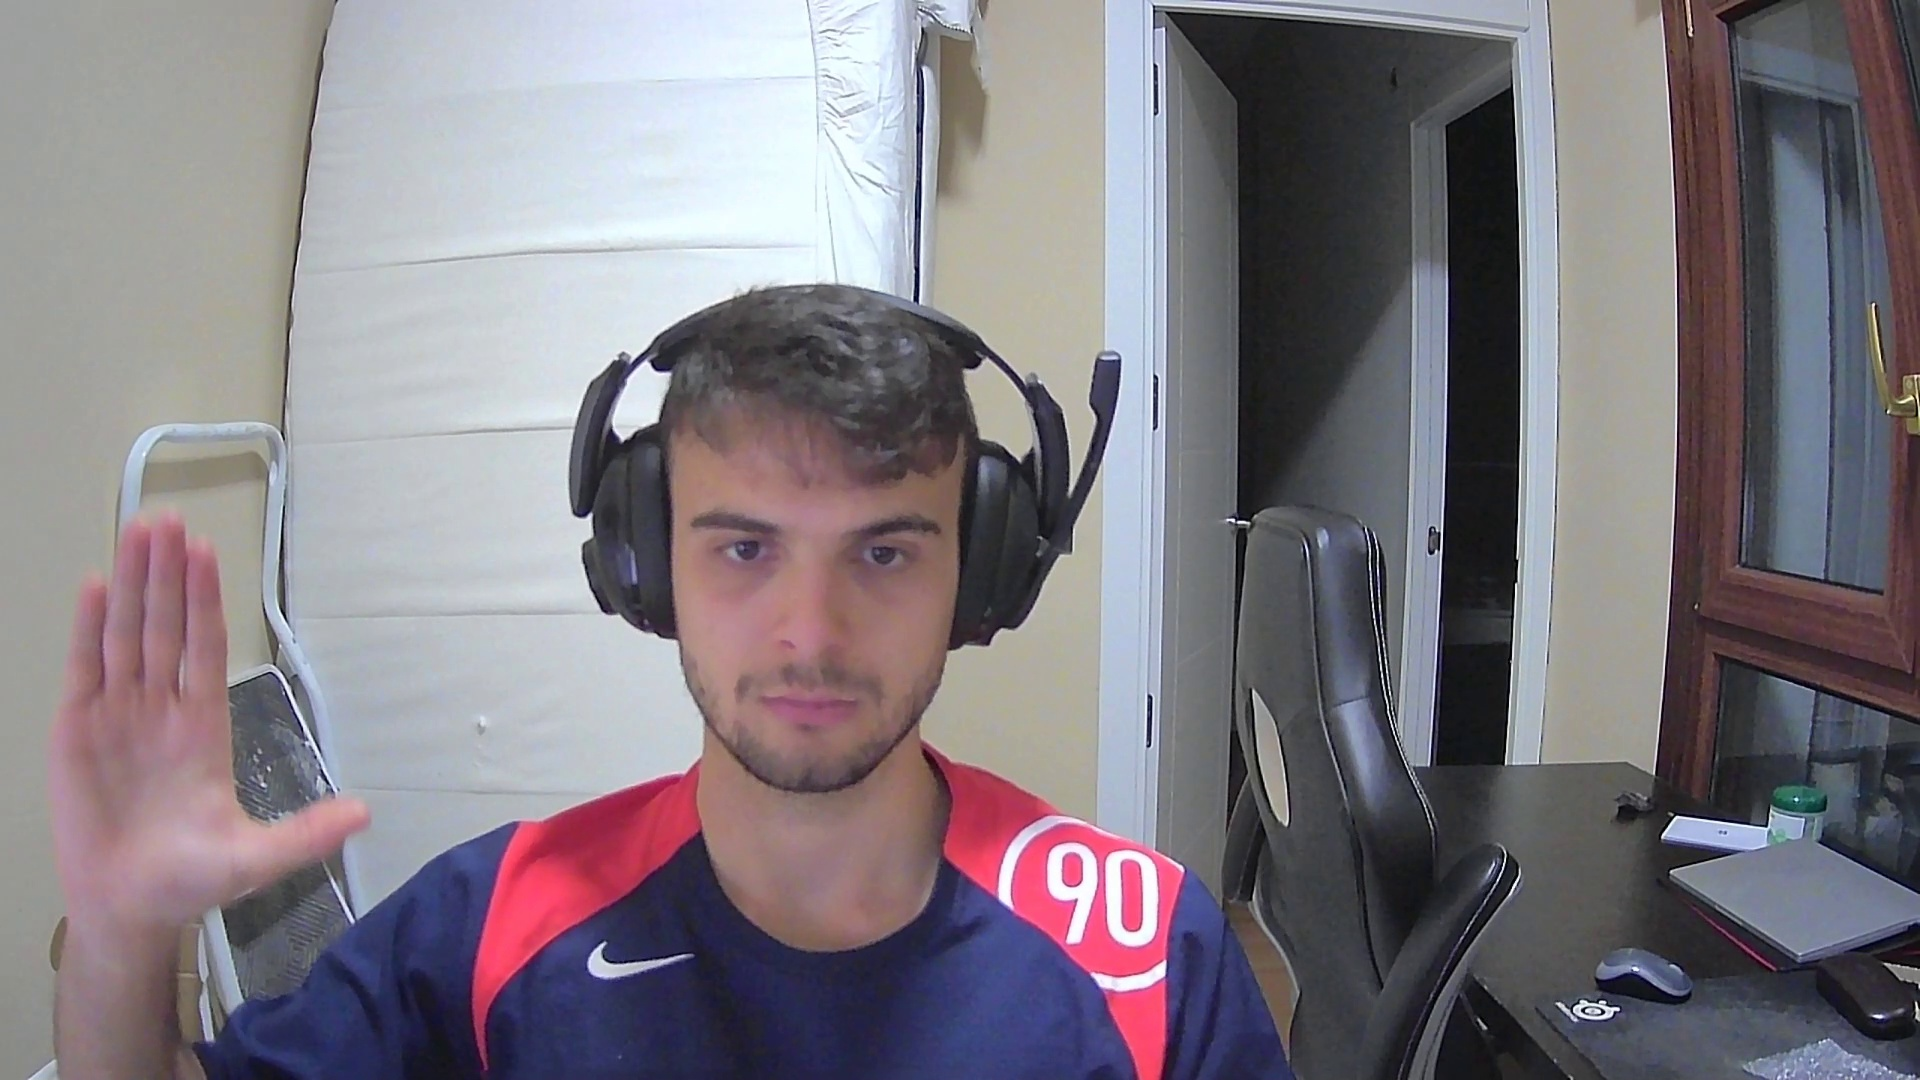Palm: (42, 509, 376, 924)
